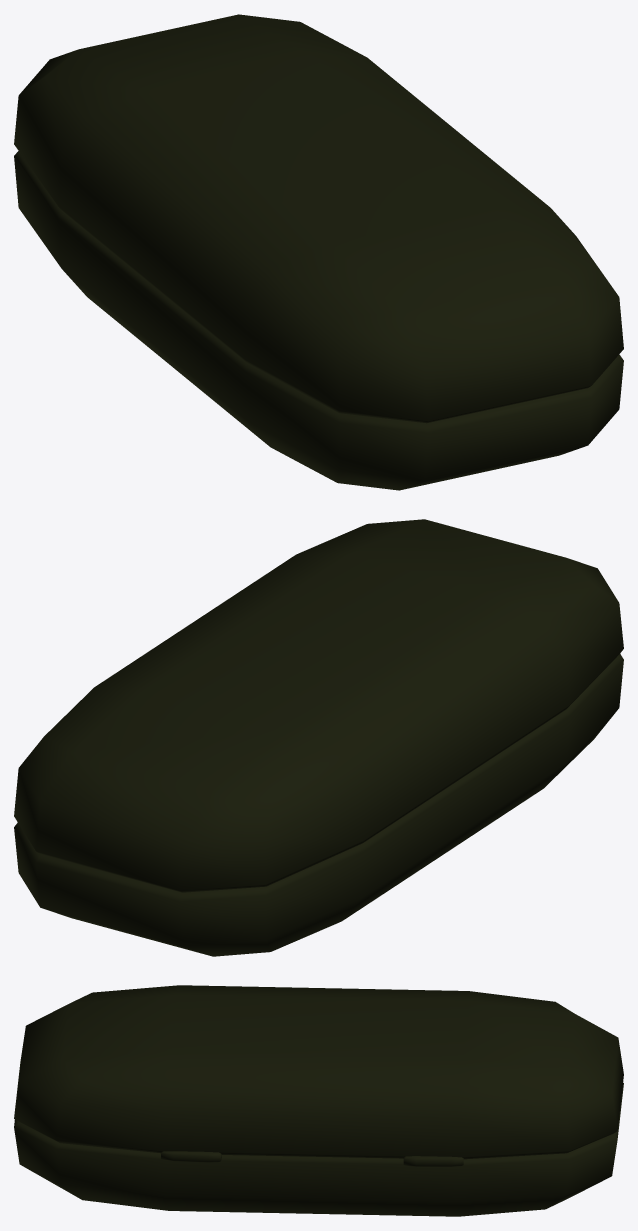
Rendered from Glasses_Box.fbx.
The picture shows the model from 3 angles, top to bottom: view 1: azimuth 30°, elevation 25°; view 2: azimuth 150°, elevation 25°; view 3: azimuth 270°, elevation 25°; orthographic projection. The views are drawn at different scales.
Parts seen in each view (by area): view 1: Glasses_Box; view 2: Glasses_Box; view 3: Glasses_Box.
Boxes of the visible parts, x1,y1,x2,y2 form: Glasses_Box: (14,14,623,490); Glasses_Box: (14,519,623,956); Glasses_Box: (14,985,623,1216).
Size of the model in its own units: 8.56 by 4.86 by 17.97.
